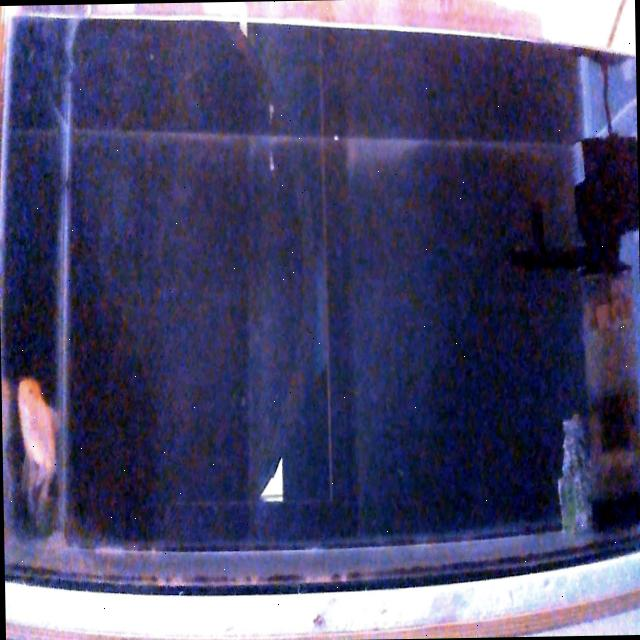fish: (16, 377, 57, 477)
